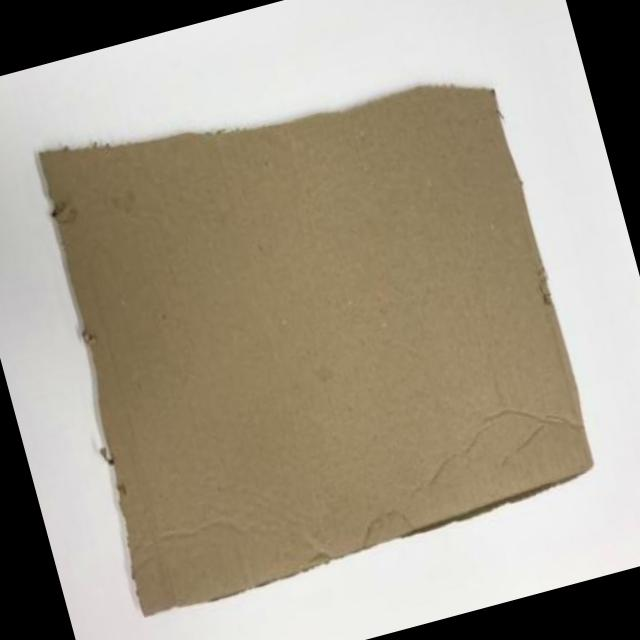cardboard paper: (41, 88, 592, 614)
